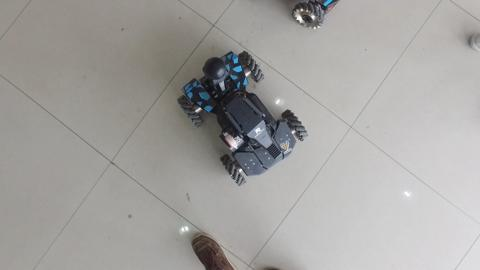chariot: (174, 45, 311, 189)
